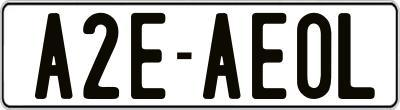0: (295, 12, 335, 101)
2: (80, 11, 121, 103)
A: (200, 13, 243, 101), (33, 10, 73, 96)
E: (128, 11, 166, 100), (250, 12, 284, 100)
L: (336, 11, 375, 103)
